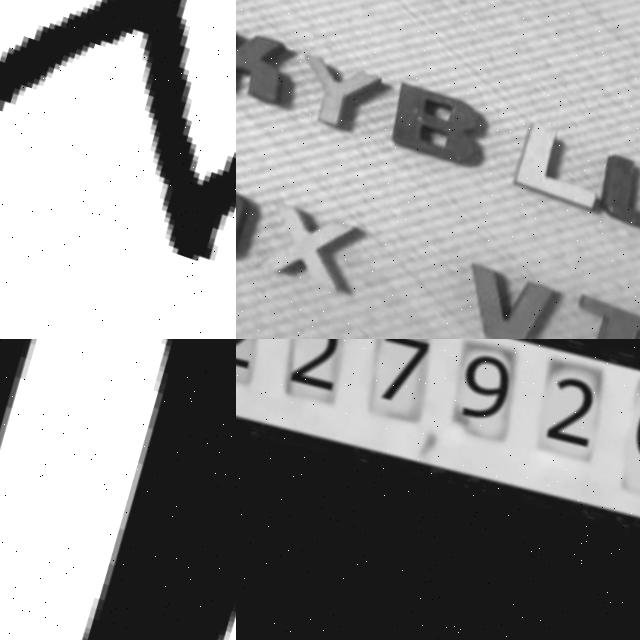0: (0, 339, 236, 640), (595, 374, 640, 491)
2: (511, 355, 611, 465), (255, 339, 359, 410)
7: (342, 339, 442, 424)
9: (425, 339, 525, 443)
B: (371, 78, 489, 174)
I: (547, 293, 640, 339)
K: (236, 13, 292, 110)
L: (504, 125, 605, 212)
U: (584, 153, 640, 244)
V: (437, 262, 556, 339)
W: (0, 0, 236, 319)
X: (242, 198, 359, 298)
Y: (283, 53, 382, 140)
